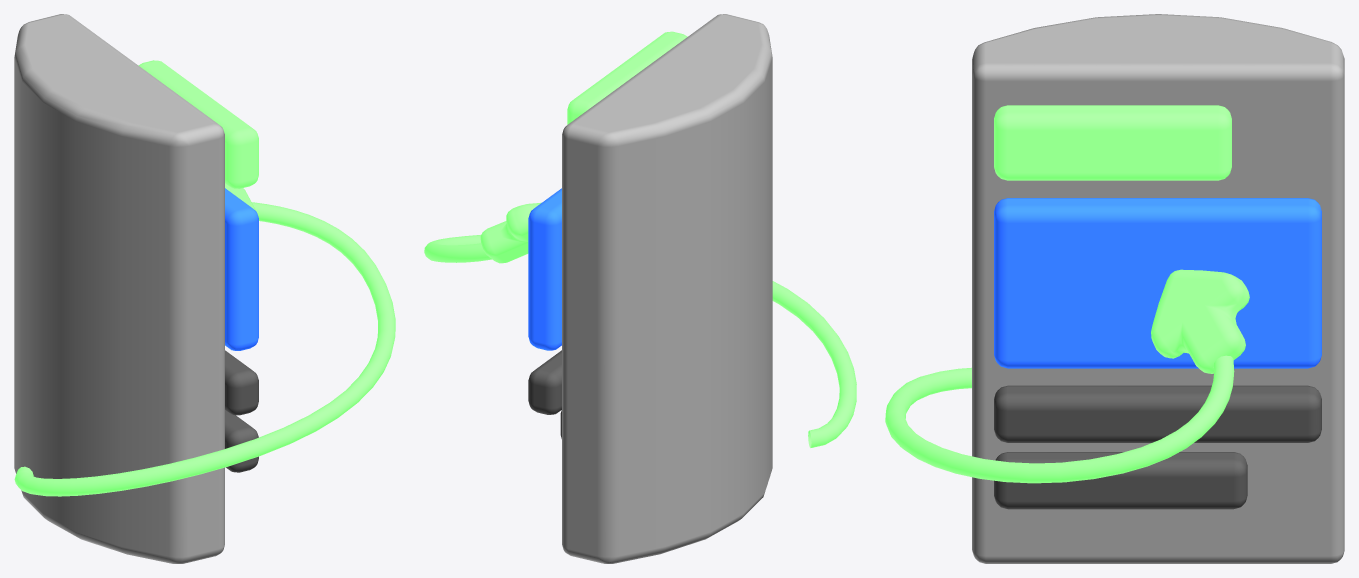
File: Cat_Magazine.glb
3 views of the same model, side by side, from view 1: azimuth 30°, elevation 25°; view 2: azimuth 150°, elevation 25°; view 3: azimuth 270°, elevation 25° (orthographic). The views are drawn at different scales.
Parts seen in each view (by area): view 1: Magazine_Group; view 2: Magazine_Group; view 3: Magazine_Group.
Boxes of the visible parts, left/top/right/bottom form: Magazine_Group: left=14, top=14, right=395, bottom=563; Magazine_Group: left=424, top=14, right=856, bottom=563; Magazine_Group: left=885, top=14, right=1344, bottom=563.
Size of the model in its own units: 0.8106 by 0.886 by 0.7386.
